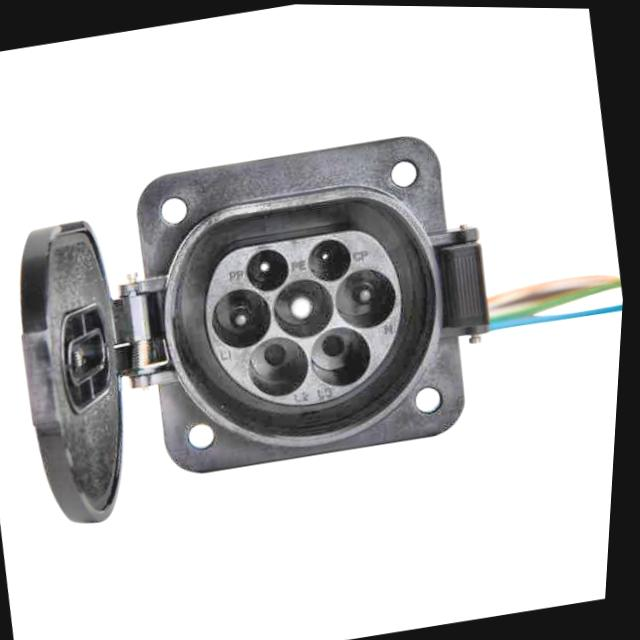inlet: (209, 229, 405, 404)
inlet-above-left: (249, 248, 292, 290)
inlet-above-right: (312, 239, 355, 279)
inlet-below-left: (252, 336, 313, 395)
inlet-below-right: (315, 326, 375, 385)
inlet-center: (278, 277, 337, 336)
inlet-center-left: (216, 286, 275, 348)
inlet-center-right: (338, 267, 399, 327)
